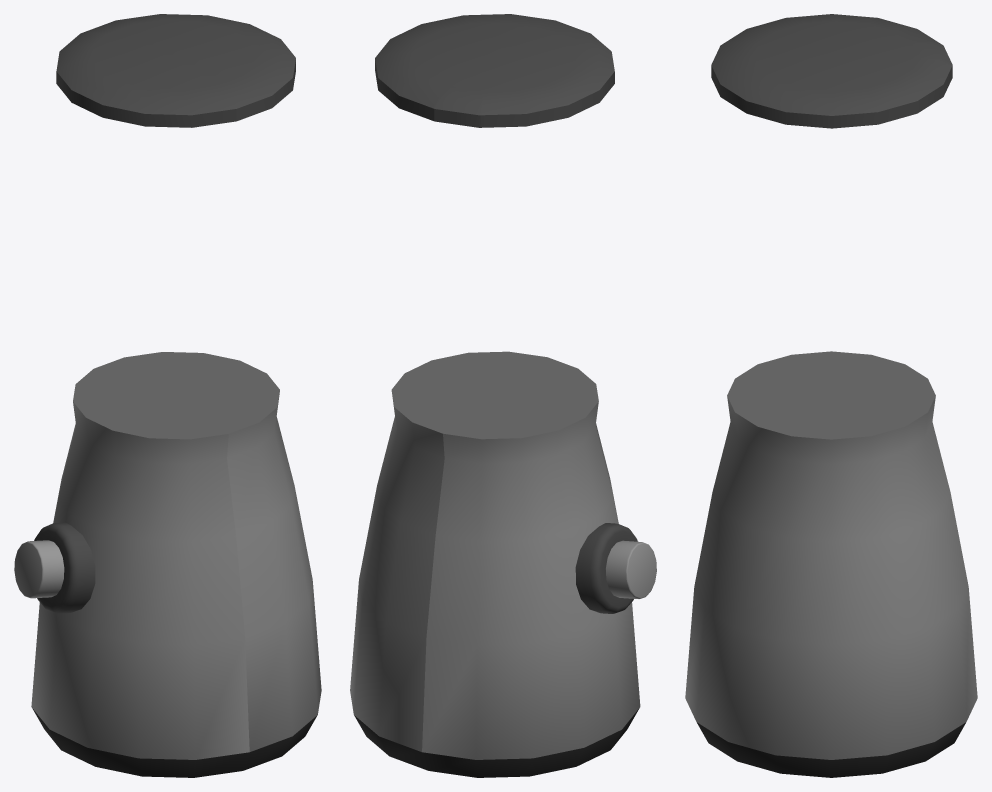
File: Blender No Jug.fbx
3 renders of one model, left to right at view 1: azimuth 30°, elevation 25°; view 2: azimuth 150°, elevation 25°; view 3: azimuth 270°, elevation 25°, orthographic.
Parts seen in each view (by area): view 1: Blender; view 2: Blender; view 3: Blender.
Part boxes in pixels (left/top/right/bottom): Blender: left=14, top=14, right=321, bottom=777; Blender: left=350, top=14, right=656, bottom=777; Blender: left=685, top=14, right=977, bottom=777.
Size of the model in its own units: 23.16 by 52.91 by 21.08.
